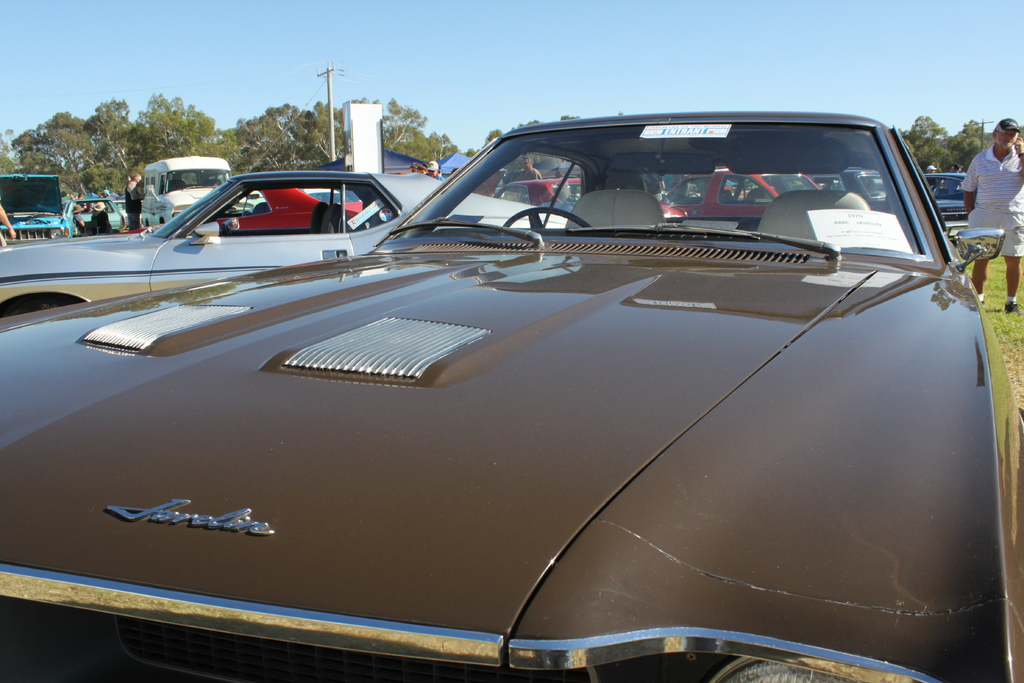Car: (0, 111, 1023, 682)
